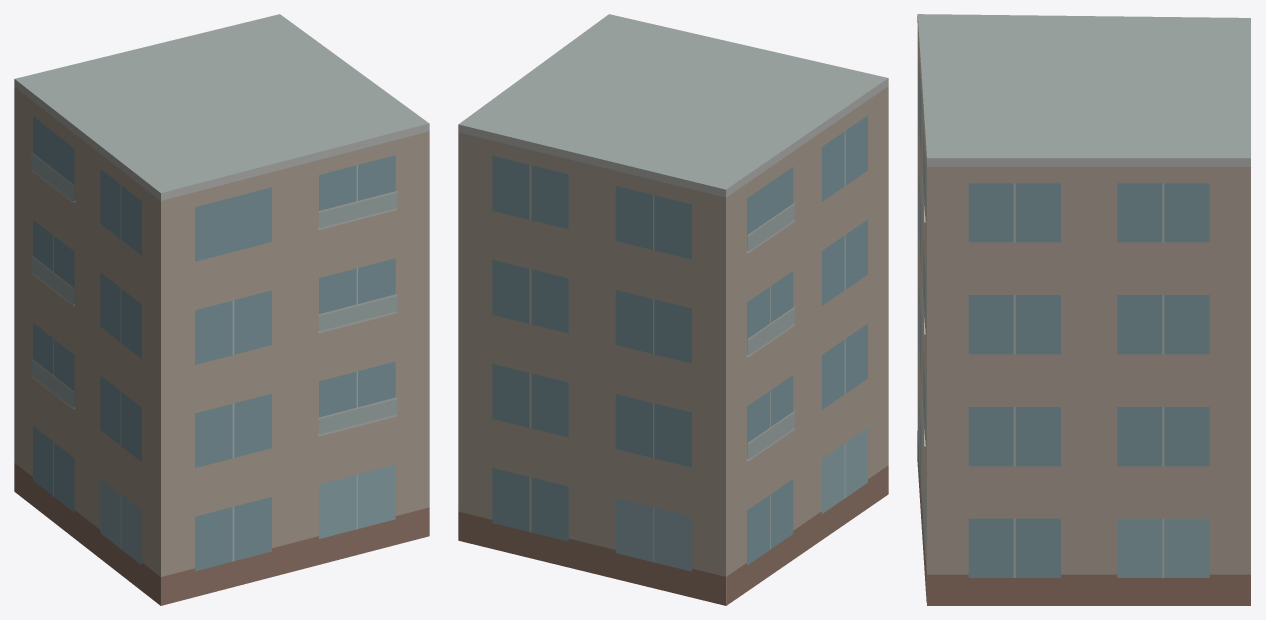
The model's file is survey-upis-32836118.glb.
3 renders of one model, left to right at view 1: azimuth 30°, elevation 25°; view 2: azimuth 150°, elevation 25°; view 3: azimuth 270°, elevation 25°, orthographic. The views are drawn at different scales.
Parts seen in each view (by area): view 1: survey-upis-32836118.tmp; view 2: survey-upis-32836118.tmp; view 3: survey-upis-32836118.tmp.
Boxes of the visible parts, box(x1,y1,x2,y2) form: survey-upis-32836118.tmp: box(14, 14, 429, 605); survey-upis-32836118.tmp: box(458, 14, 888, 605); survey-upis-32836118.tmp: box(917, 14, 1250, 605).
Bounding box in the file's own units: 8.94 × 12.9 × 8.73.
